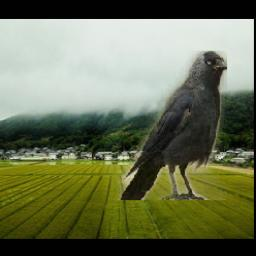Crow: (118, 51, 227, 200)
